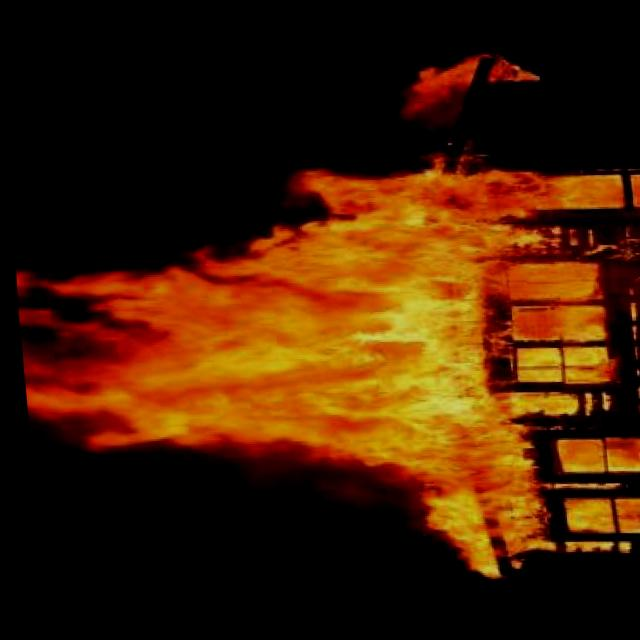helmet: (6, 136, 640, 595), (393, 38, 553, 135)
